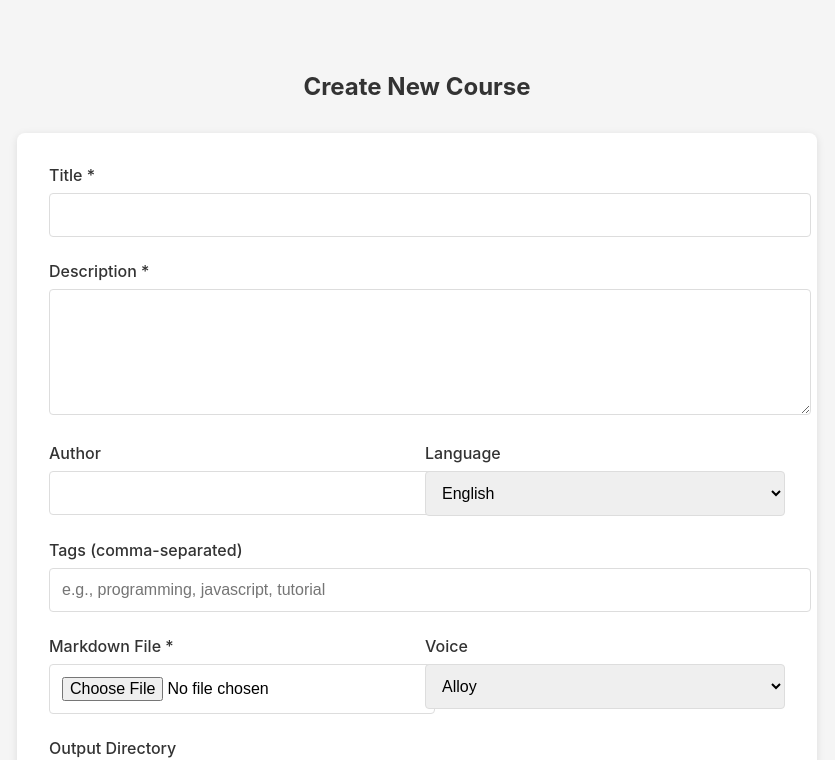
CourseCreationPage › shows error when markdown file is not provided
The image size is (835, 760).
In the field labelled "Title *": (430, 215) x1=49 y1=193 x2=811 y2=237, type "Test Course"
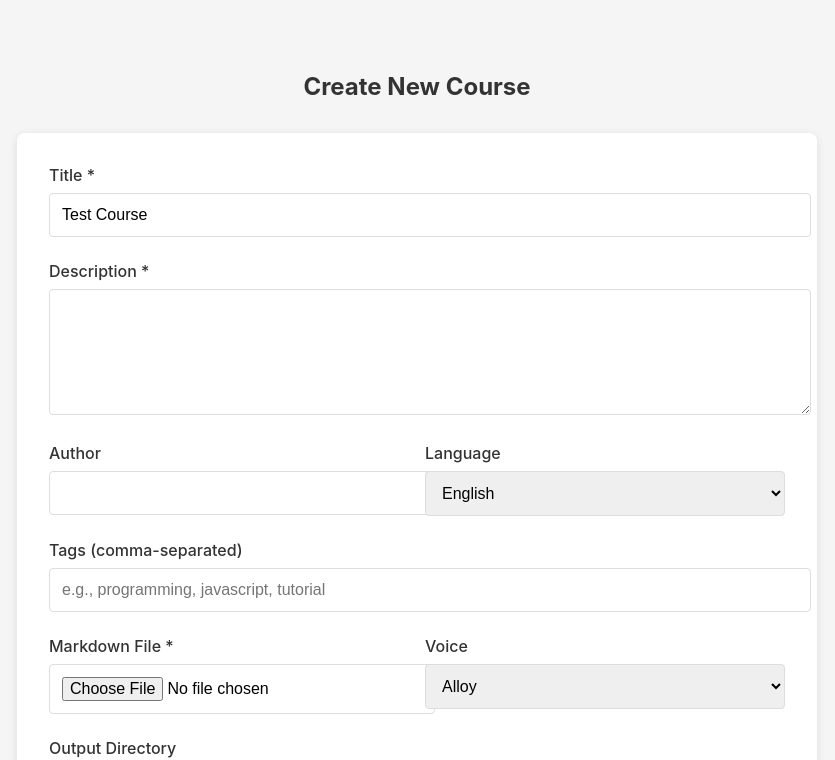
In the text box labelled "Description *": (430, 352) x1=49 y1=289 x2=811 y2=415, type "Test Description"
(page scrolled)
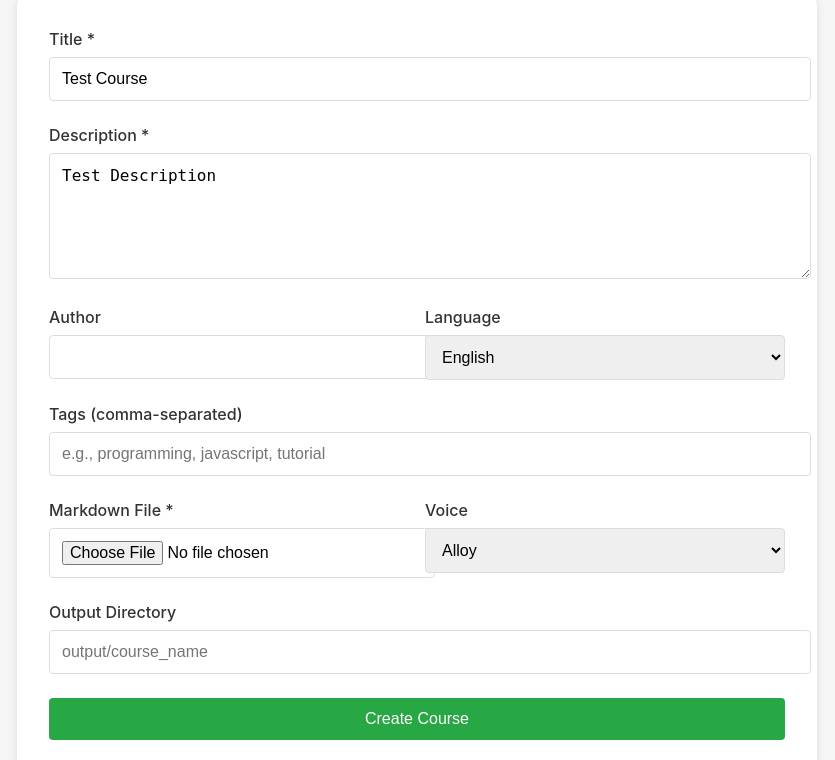
// Submit without file
Submit the form named "Create Course"
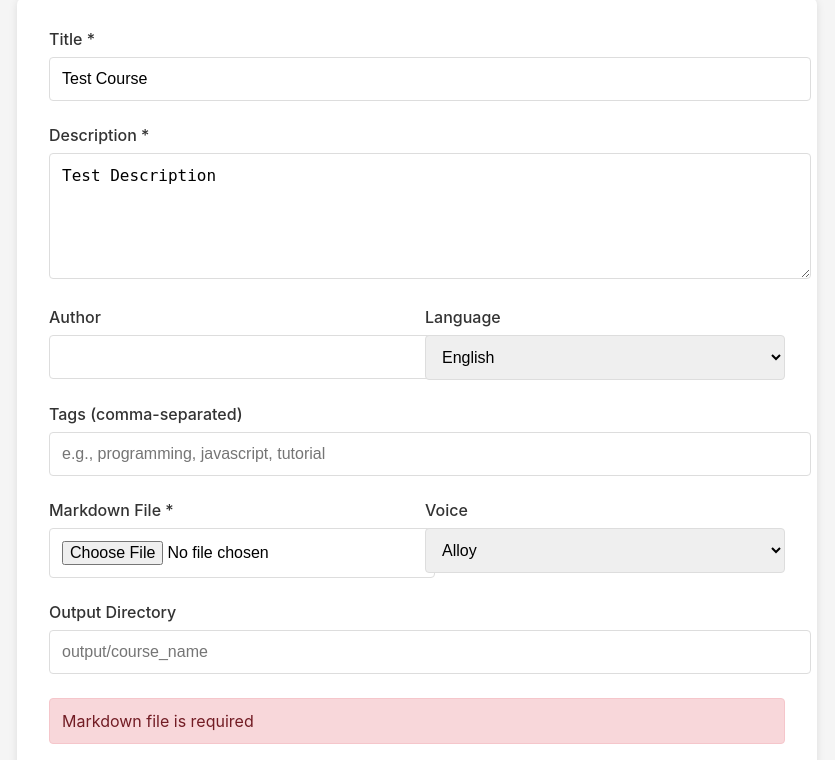
expect the text "Markdown file is required" is shown: met, box x1=49 y1=698 x2=785 y2=744
